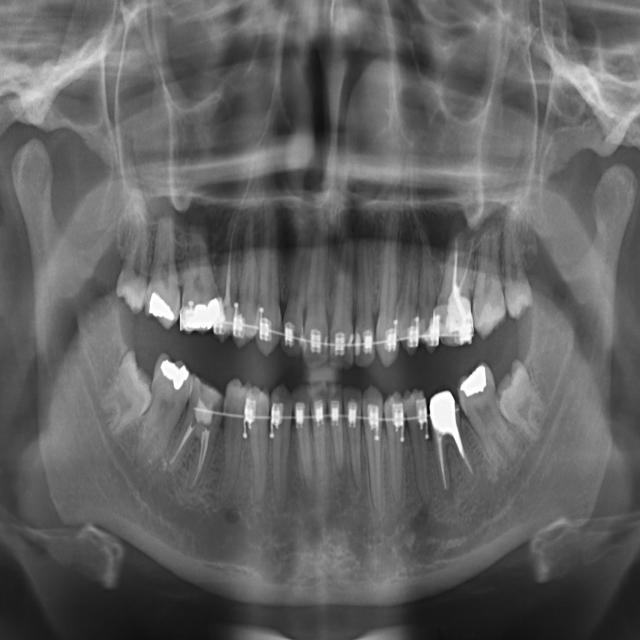AmalgamRestoration: (460, 352, 494, 415), (160, 350, 197, 396), (182, 304, 229, 338), (143, 290, 179, 334)
CompositeResinRestoration: (189, 375, 227, 428), (442, 315, 477, 352), (479, 302, 506, 341)
DentalCaries: (471, 267, 488, 341)
ImpactedTooth: (101, 345, 156, 439), (498, 351, 546, 444)
RootCanalTreatment: (435, 422, 480, 514), (166, 418, 216, 492), (442, 218, 478, 312), (214, 193, 242, 310)
periapicalLesion: (434, 464, 464, 517)
